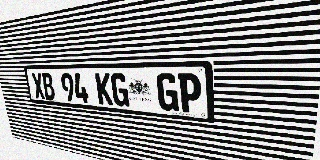4: (72, 73, 89, 103)
9: (60, 73, 76, 102)
B: (41, 73, 56, 100)
G: (156, 73, 179, 112), (110, 73, 130, 107)
K: (95, 73, 113, 106)
P: (178, 73, 202, 114)
X: (31, 73, 45, 99)
